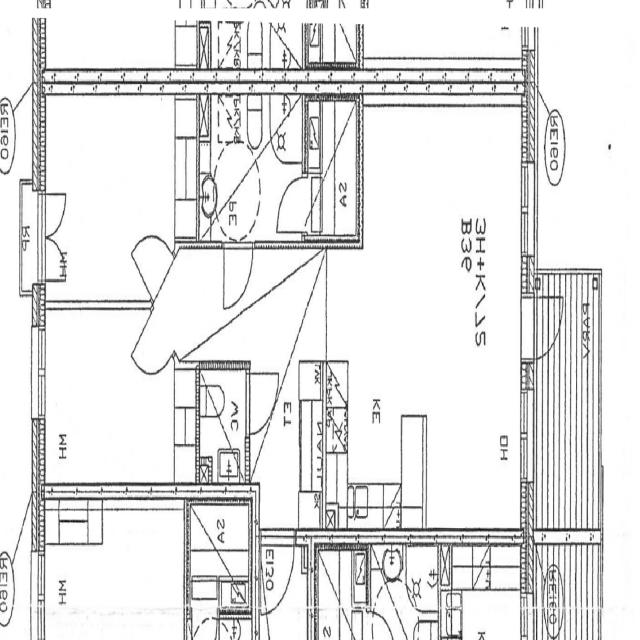door: (132, 209, 175, 302), (132, 306, 174, 399), (262, 529, 294, 613), (522, 298, 563, 360), (224, 241, 253, 310), (246, 374, 278, 434), (278, 179, 308, 232), (38, 237, 66, 280), (38, 194, 66, 236)
